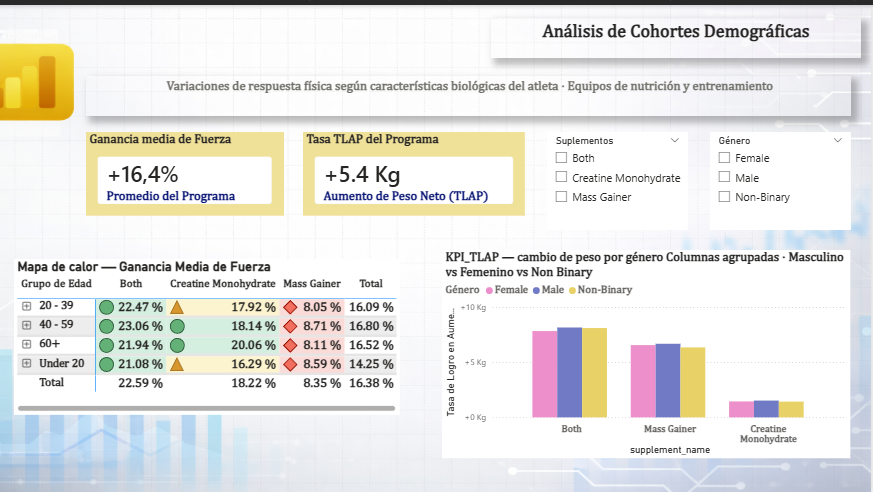

The dashboard page shown, as its layout file describes it:
{"tool":"powerbi","page":{"name":"Página 2","canvas":[1280,720],"ordinal":1},"visuals":[{"type":"cardVisual","title":"Ganancia media de Fuerza","fields":{"Data":["_Medidas Oficiales.Ganancia Promedio de Fuerza %"]},"box":[127.8,186.6,290.9,123.4],"z":0},{"type":"cardVisual","title":"Tasa TLAP del Programa","fields":{"Data":["_Medidas Oficiales.Tasa de Logro en Aumento de Peso Neto (TLAP)"]},"box":[446.7,186.6,326.2,123.4],"z":1000},{"type":"pivotTable","title":"Mapa de calor — Ganancia Media de Fuerza","fields":{"Columns":["nutrition_analytics_db dim_supplement.supplement_name"],"Values":["_Medidas Oficiales.Ganancia Promedio de Fuerza Base %"],"Rows":["nutrition_analytics_db dim_athlete.Grupo de Edad","nutrition_analytics_db dim_athlete.Género"]},"box":[22,373.2,567.2,229.2],"z":2000},{"type":"clusteredColumnChart","title":"KPI_TLAP — cambio de peso por género Columnas agrupadas · Masculino vs Femenino vs Non Binary ","fields":{"Series":["nutrition_analytics_db dim_athlete.Género"],"Category":["nutrition_analytics_db dim_supplement.supplement_name"],"Y":["_Medidas Oficiales.Tasa de Logro en Aumento de Peso Neto (TLAP)"]},"box":[651.6,360.5,600.3,305.9],"z":3000},{"type":"textbox","box":[722.9,19.1,543.7,58.8],"z":4000},{"type":"slicer","fields":{"Values":["nutrition_analytics_db dim_supplement.supplement_name"]},"box":[805.4,186.9,206.7,143.9],"z":5000},{"type":"textbox","box":[127.8,104.3,1124.1,58.8],"z":5001},{"type":"slicer","fields":{"Values":["nutrition_analytics_db dim_athlete.Género"]},"box":[1045.2,186.9,206.7,143.9],"z":5002}]}

Visuals, with their boxes in screenshot pixels (x1, y1, x2, y2), scaled from the page's 1280x720 canvas onto the 873x492 screenshot:
"Ganancia media de Fuerza" cardVisual: x1=87, y1=128, x2=286, y2=212
"Tasa TLAP del Programa" cardVisual: x1=305, y1=128, x2=527, y2=212
"Mapa de calor — Ganancia Media de Fuerza" pivotTable: x1=15, y1=255, x2=402, y2=412
"KPI_TLAP — cambio de peso por género Columnas agrupadas · Masculino vs Femenino vs Non Binary " clusteredColumnChart: x1=444, y1=246, x2=854, y2=455
textbox: x1=493, y1=13, x2=864, y2=53
slicer - nutrition_analytics_db dim_supplement.supplement_name: x1=549, y1=128, x2=690, y2=226
textbox: x1=87, y1=71, x2=854, y2=111
slicer - nutrition_analytics_db dim_athlete.Género: x1=713, y1=128, x2=854, y2=226
